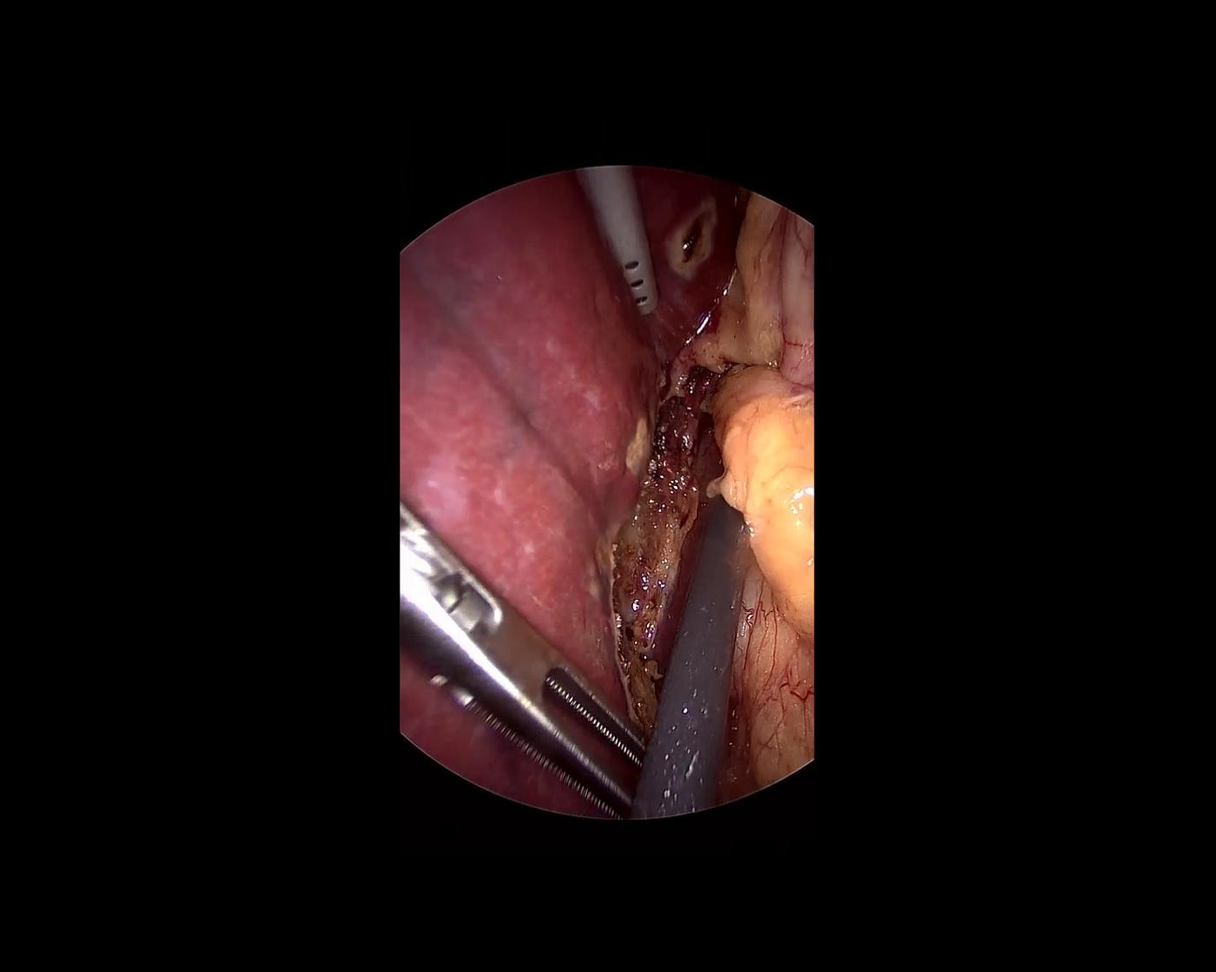Forceps: (323, 496, 677, 848), (628, 491, 758, 828)
Liver: (288, 118, 750, 821)
Suction: (576, 155, 664, 323)
